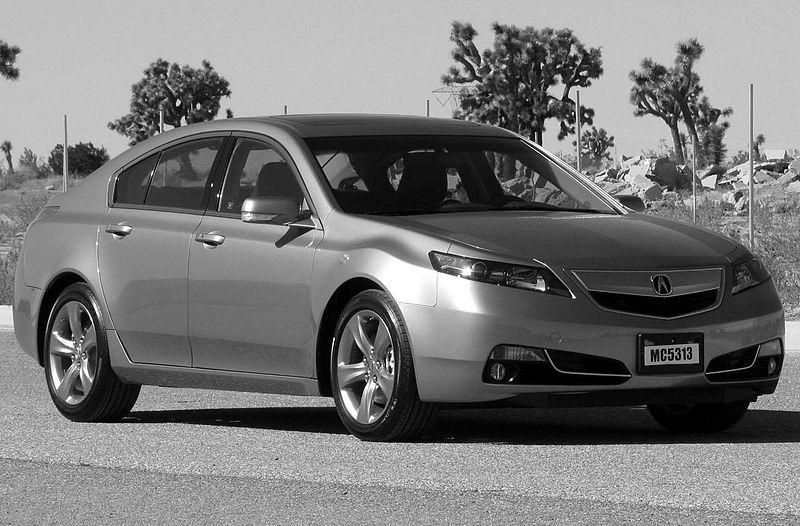car: (13, 115, 787, 440)
